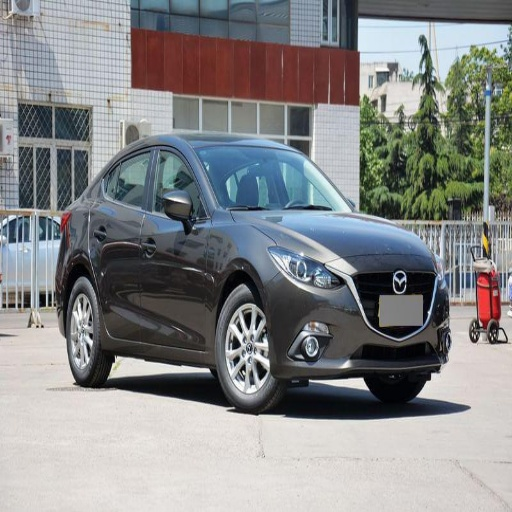back_left_light: (89, 144, 154, 340)
back_right_light: (265, 255, 447, 379)
front_bumper: (200, 145, 348, 212)
front_left_light: (140, 143, 214, 349)
front_right_door: (268, 243, 340, 290)
front_right_light: (234, 210, 438, 269)
trunk: (218, 286, 283, 412), (67, 277, 109, 386), (367, 373, 422, 407)
